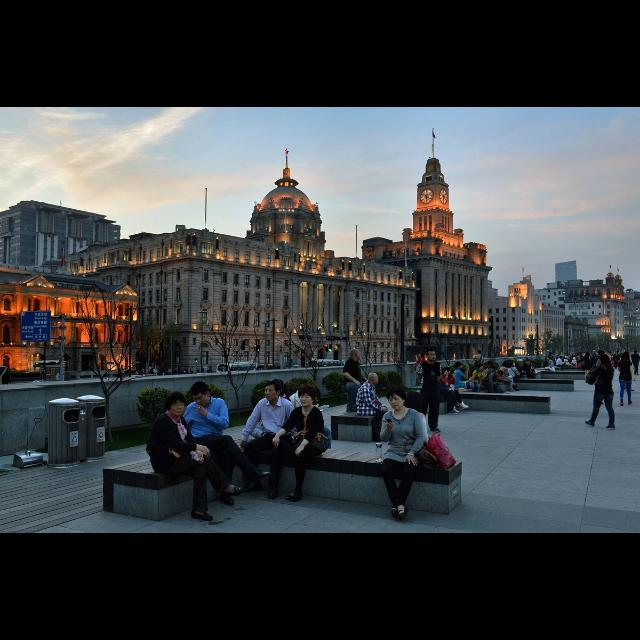head: (190, 382, 212, 408), (168, 392, 186, 418), (298, 386, 318, 408), (264, 380, 282, 402), (388, 388, 406, 410), (406, 393, 422, 411), (271, 380, 285, 398), (348, 350, 362, 362), (368, 372, 379, 386), (426, 350, 436, 362), (598, 356, 610, 366), (596, 349, 606, 358), (437, 368, 445, 378), (496, 369, 504, 378), (489, 364, 496, 374), (455, 362, 463, 370), (622, 354, 630, 361), (442, 368, 448, 376), (478, 364, 484, 372), (504, 360, 510, 368), (624, 351, 630, 359), (488, 362, 494, 368), (504, 362, 510, 368), (510, 362, 516, 368), (418, 356, 422, 360), (478, 351, 482, 355), (525, 360, 529, 364), (526, 360, 530, 364), (544, 358, 548, 362), (585, 352, 589, 356), (634, 350, 638, 354), (616, 352, 618, 354), (616, 354, 618, 356)
person: (142, 390, 248, 524), (170, 379, 274, 508), (238, 378, 302, 504), (270, 382, 332, 506), (377, 383, 427, 522), (279, 377, 335, 485), (388, 388, 442, 492), (246, 378, 298, 452), (354, 371, 394, 445), (414, 346, 444, 436), (583, 353, 617, 432), (341, 346, 371, 432), (435, 365, 471, 415), (430, 366, 460, 418), (588, 349, 614, 406), (617, 350, 637, 408), (481, 360, 507, 398), (478, 363, 504, 401), (450, 361, 472, 401), (479, 370, 506, 402), (468, 362, 488, 404), (496, 360, 522, 392), (619, 350, 637, 394), (574, 350, 596, 384), (497, 360, 518, 394), (521, 358, 539, 388), (506, 360, 522, 388), (522, 360, 538, 388), (414, 352, 426, 388), (472, 350, 483, 380), (541, 357, 555, 378), (614, 352, 622, 368), (614, 351, 620, 372)
